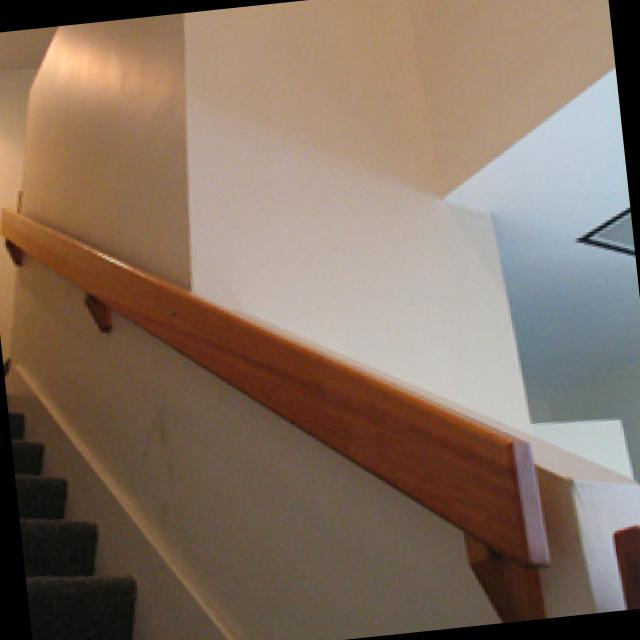ceiling beam: (448, 67, 634, 248), (0, 26, 59, 67)
wall clock: (9, 12, 640, 640), (187, 0, 640, 477), (0, 60, 41, 356)
